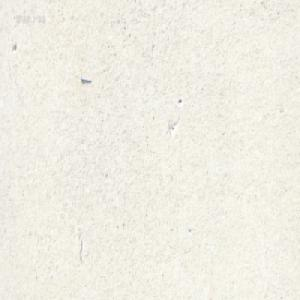Nail: (78, 74, 92, 82)
